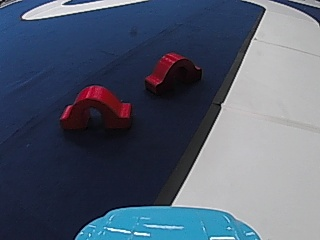bridge: (56, 80, 137, 133), (142, 49, 203, 96)
